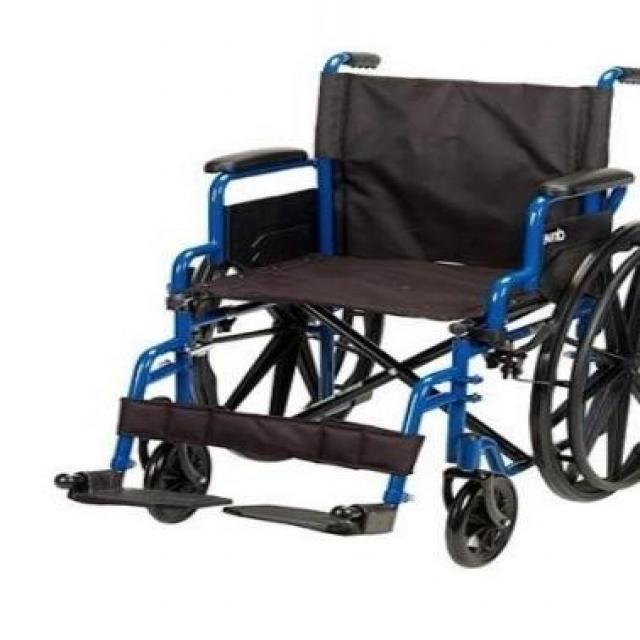wheelchair: (44, 37, 640, 574)
